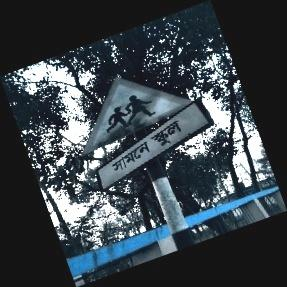School-in-front: (84, 79, 212, 190)
